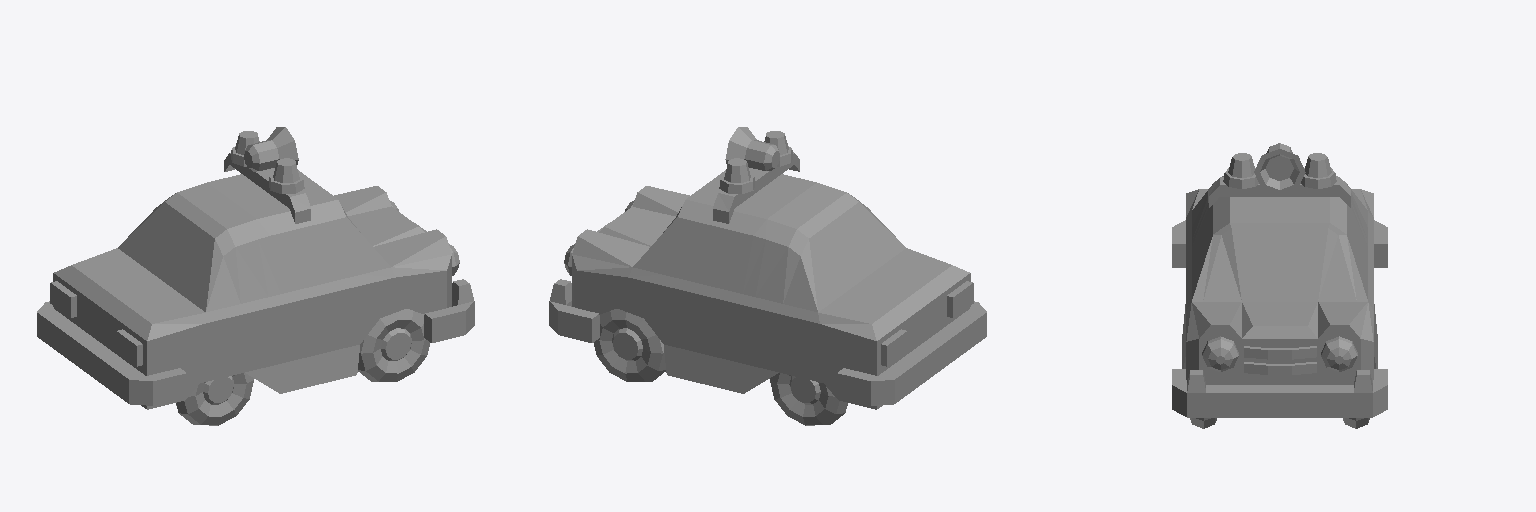
File: PUSHILIN_Police_car.obj
3 renders of one model, left to right at view 1: azimuth 30°, elevation 25°; view 2: azimuth 150°, elevation 25°; view 3: azimuth 270°, elevation 25°, orthographic.
Parts seen in each view (by area): view 1: PUSHILIN_Police_car_Cube.006; view 2: PUSHILIN_Police_car_Cube.006; view 3: PUSHILIN_Police_car_Cube.006.
Part boxes in pixels (left/top/right/bottom): PUSHILIN_Police_car_Cube.006: left=37, top=127, right=474, bottom=425; PUSHILIN_Police_car_Cube.006: left=549, top=127, right=986, bottom=425; PUSHILIN_Police_car_Cube.006: left=1172, top=143, right=1387, bottom=428.
Bounding box in the file's own units: 2.35 × 1.58 × 1.27.